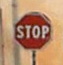stop: (13, 11, 51, 50)
